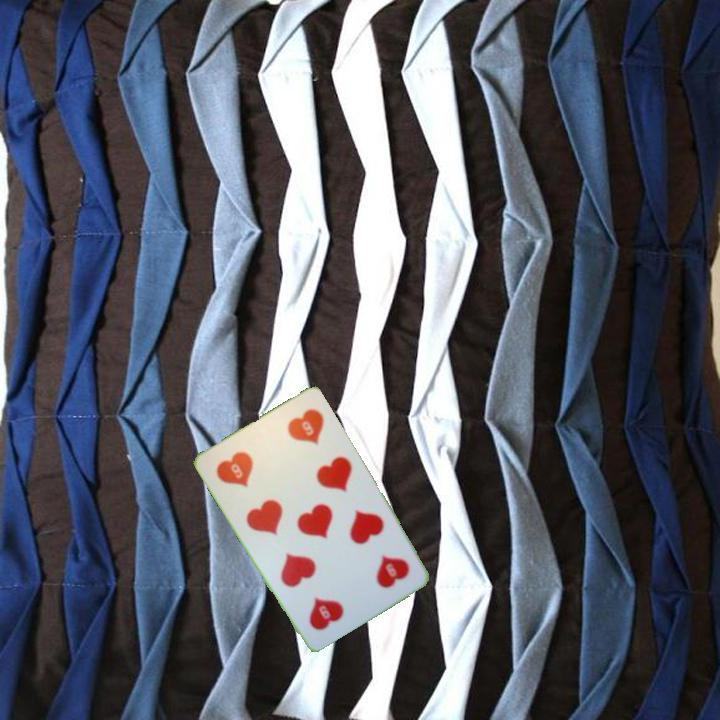h_9.png: (336, 528, 421, 610), (204, 429, 289, 511)
